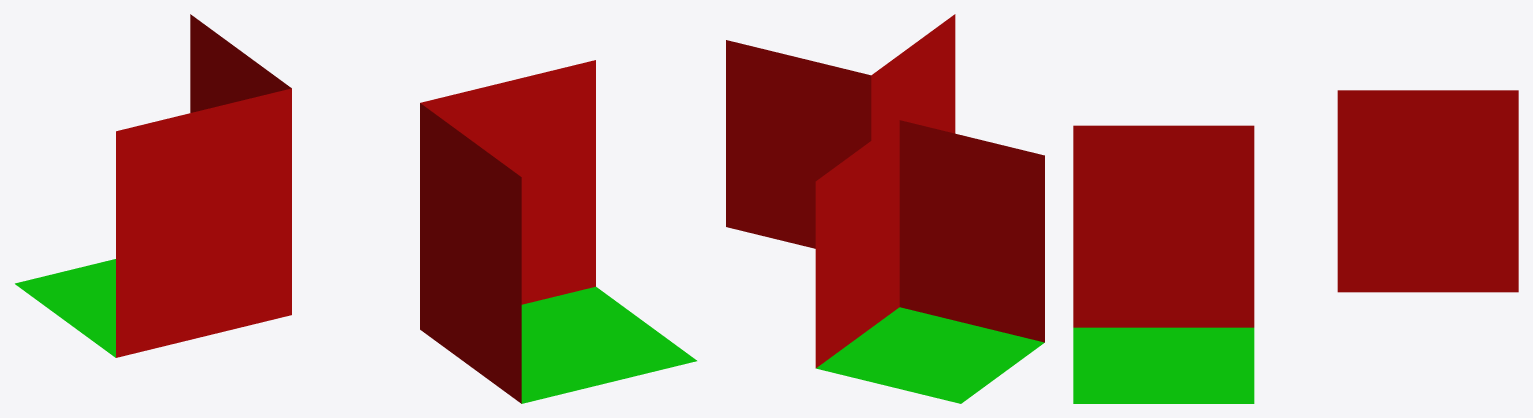
3 views of the same model, side by side, from view 1: azimuth 30°, elevation 25°; view 2: azimuth 150°, elevation 25°; view 3: azimuth 270°, elevation 25° (orthographic). The views are drawn at different scales.
Parts seen in each view (by area): view 1: None_E_W_A_E_W_E_E_A_None; view 2: None_E_W_A_E_W_E_E_A_None; view 3: None_E_W_A_E_W_E_E_A_None.
Part boxes in pixels (bbox=[...]): None_E_W_A_E_W_E_E_A_None: bbox=[15, 14, 696, 403]; None_E_W_A_E_W_E_E_A_None: bbox=[726, 14, 1044, 403]; None_E_W_A_E_W_E_E_A_None: bbox=[1073, 90, 1518, 403].
Bounding box in the file's own units: 100 × 50 × 100.
